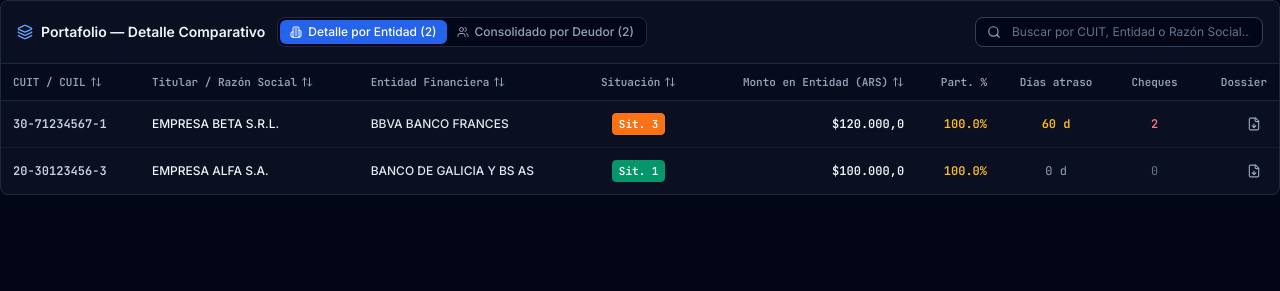
Test case: Batch Portfolio Components › switches to consolidated debtor view and toggles entity breakdown
# Switch to Consolidado por Deudor mode
Click the button "Consolidado por Deudor (2)" at (545, 32), box [446,20,644,44]
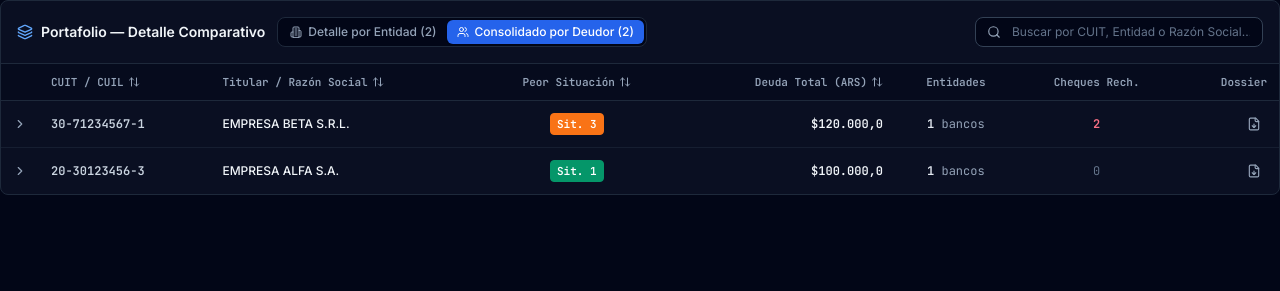
expect the text "EMPRESA ALFA S.A." is shown: met, box [210,148,480,194]
expect the text "Peor Situación" is shown: met, box [523,74,615,90]
expect the text "Deuda Total (ARS)" is shown: met, box [755,74,867,90]
# Expand debtor details
Click the button titled "Ver entidades" next to "30-71234567-1" at (20, 124), box [9,113,31,135]
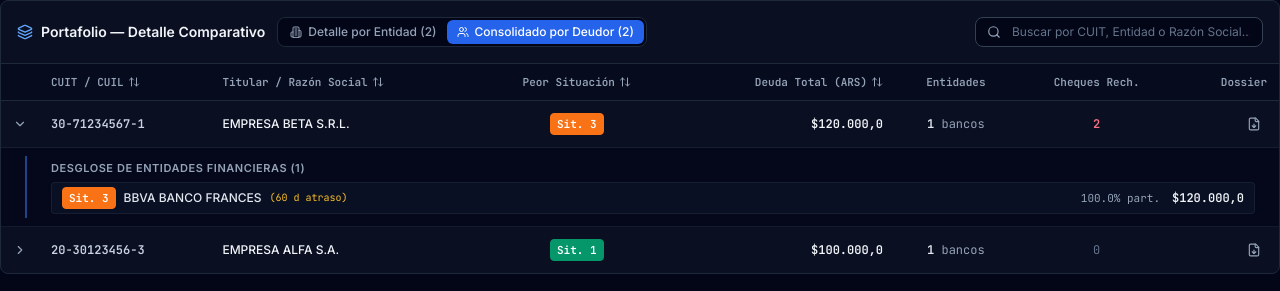
expect the text "Desglose de Entidades Financieras (1)" is shown: met, box [51,161,305,175]
